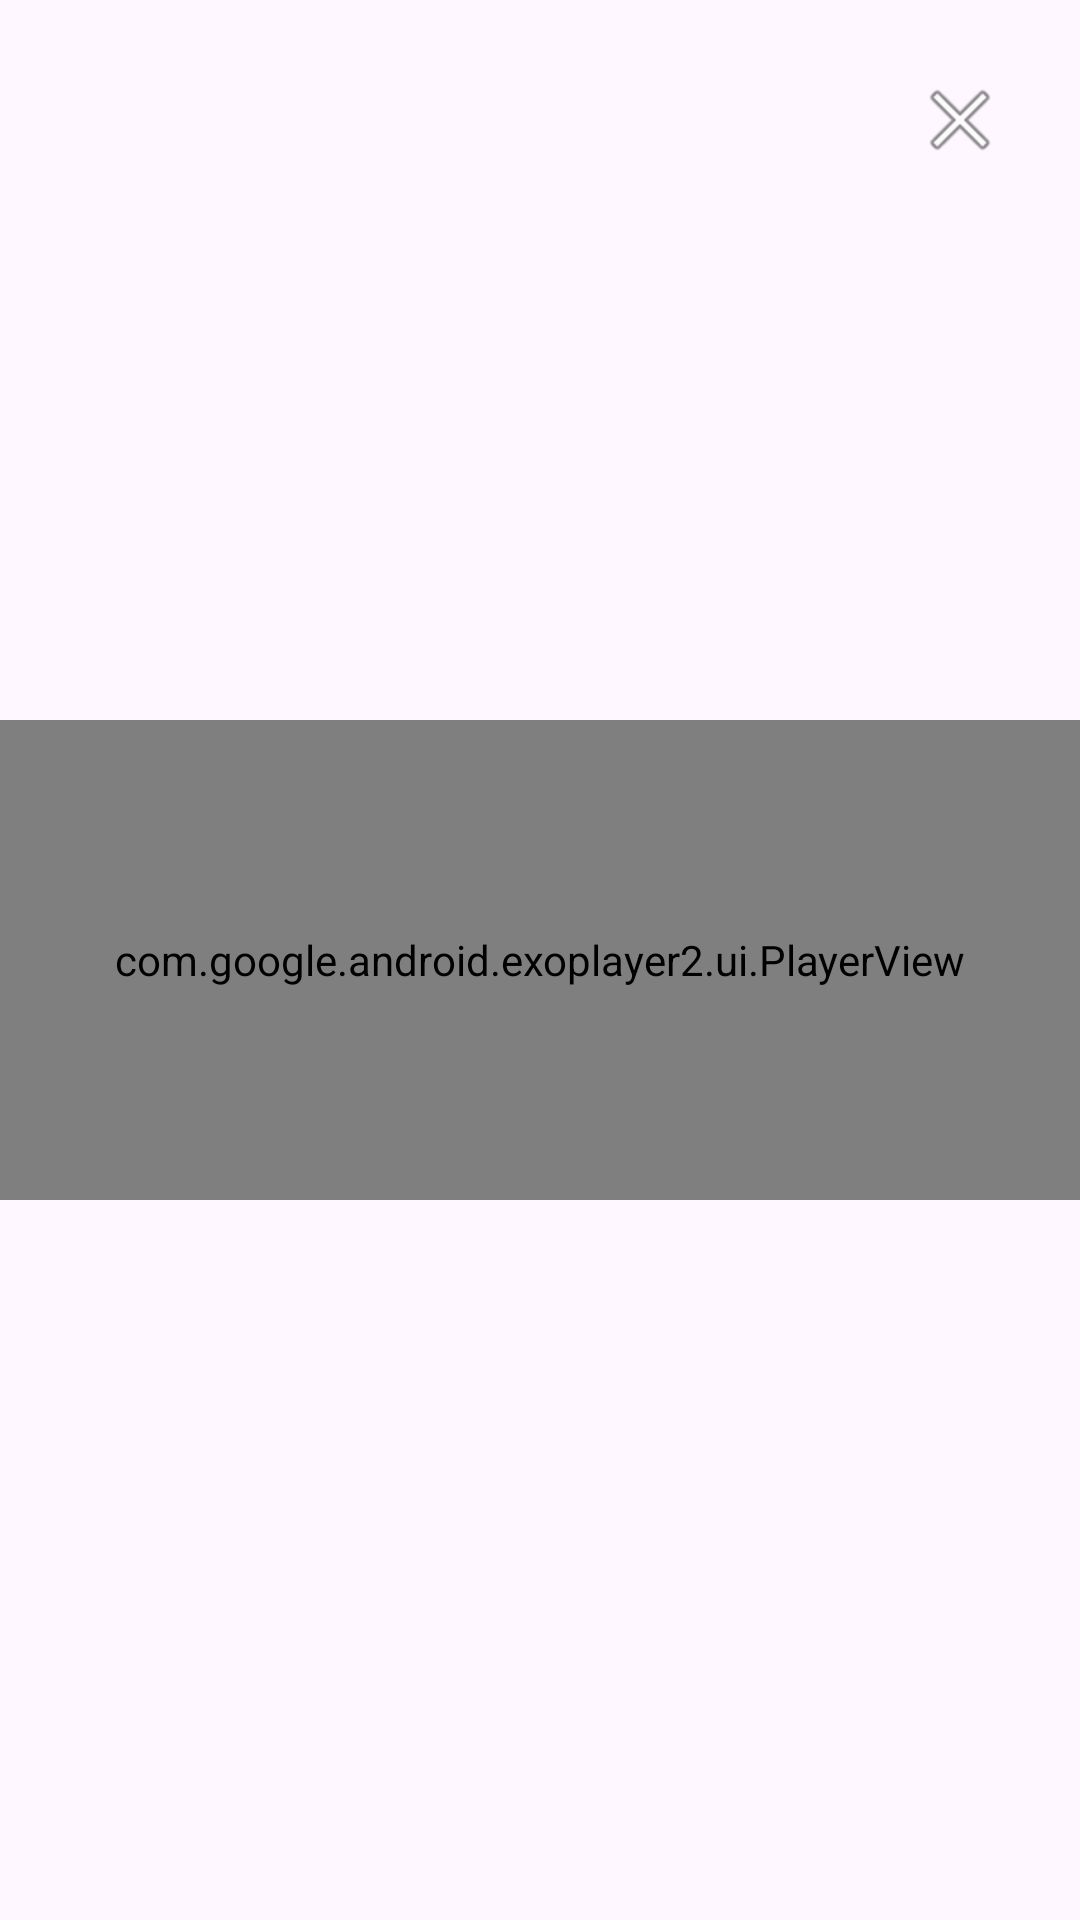

Where icons sit on this 1080w x 1920h app screen, as (x1, y1, x2, y2):
close clear cancel: (930, 90, 990, 150)
